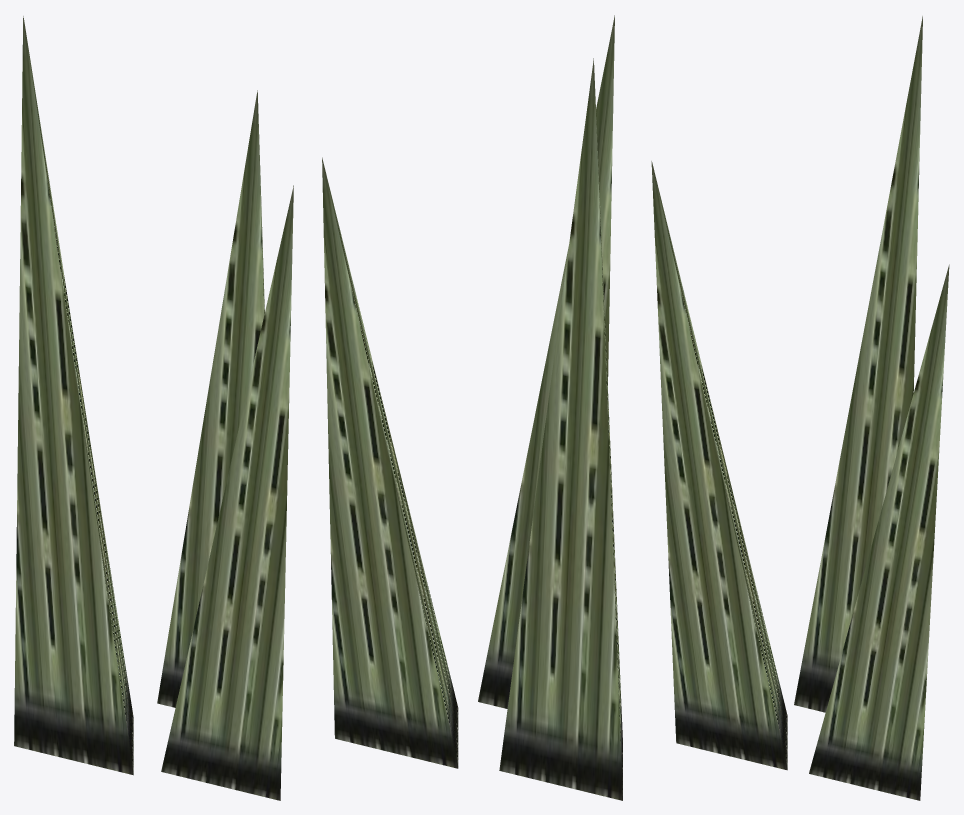
The model's file is cactus4_hdtex.glb.
The picture shows the model from 3 angles, left to right: view 1: azimuth 30°, elevation 25°; view 2: azimuth 150°, elevation 25°; view 3: azimuth 270°, elevation 25°; orthographic projection. The views are drawn at different scales.
Parts seen in each view (by area): view 1: Mesh02; view 2: Mesh02; view 3: Mesh02.
Part boxes in pixels (<box>): Mesh02: <box>14,16,293,800</box>; Mesh02: <box>322,15,622,800</box>; Mesh02: <box>651,16,949,800</box>.
Bounding box in the file's own units: 1.56 × 3.97 × 1.6.
1 material, 1 textured.
